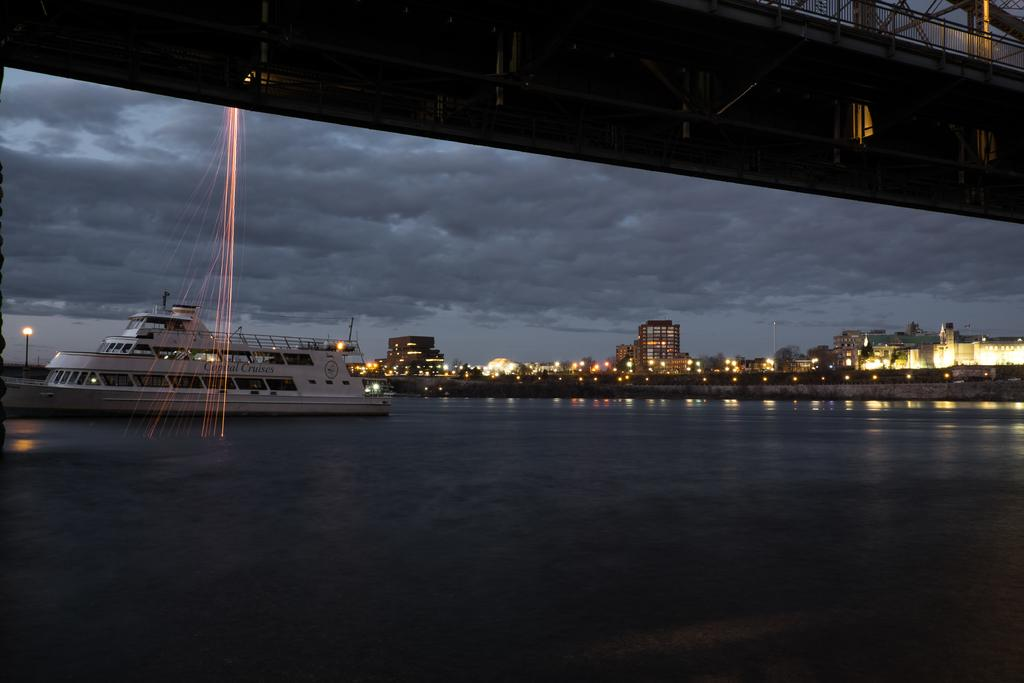PassengerShip: (0, 292, 396, 434)
